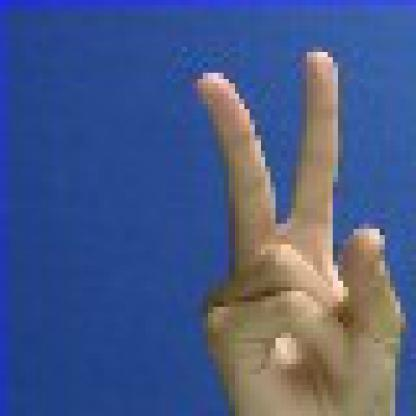two: (177, 41, 411, 410)
